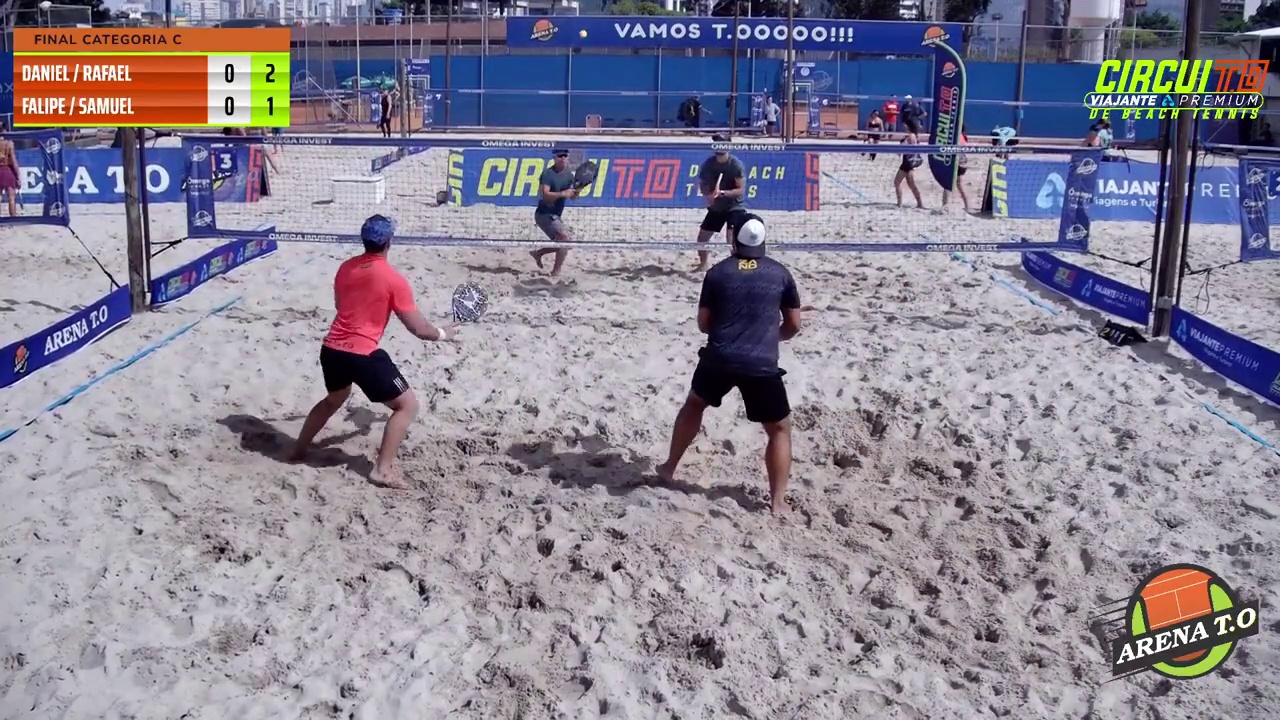court_line: (543, 0, 683, 529), (634, 0, 793, 399)
